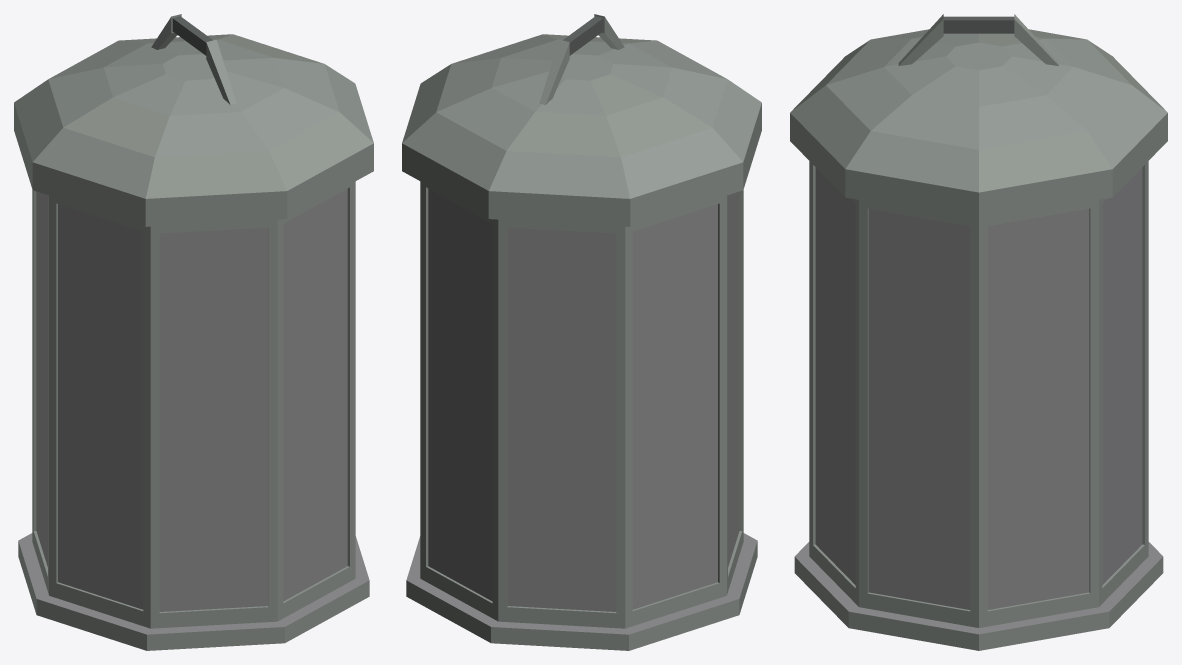
Rendered from TrashCan_01.glb.
3 renders of one model, left to right at view 1: azimuth 30°, elevation 25°; view 2: azimuth 150°, elevation 25°; view 3: azimuth 270°, elevation 25°, orthographic.
Visible parts, largest first — view 1: TrashCan_01; view 2: TrashCan_01; view 3: TrashCan_01.
Boxes of the visible parts, x1,y1,x2,y2 form: TrashCan_01: (14, 14, 373, 650); TrashCan_01: (402, 14, 761, 650); TrashCan_01: (790, 14, 1167, 650).
Size of what is drawn, in the model's own units: 0.7907 by 1.28 by 0.7907.
Materials: 1 (1 with a texture image).
